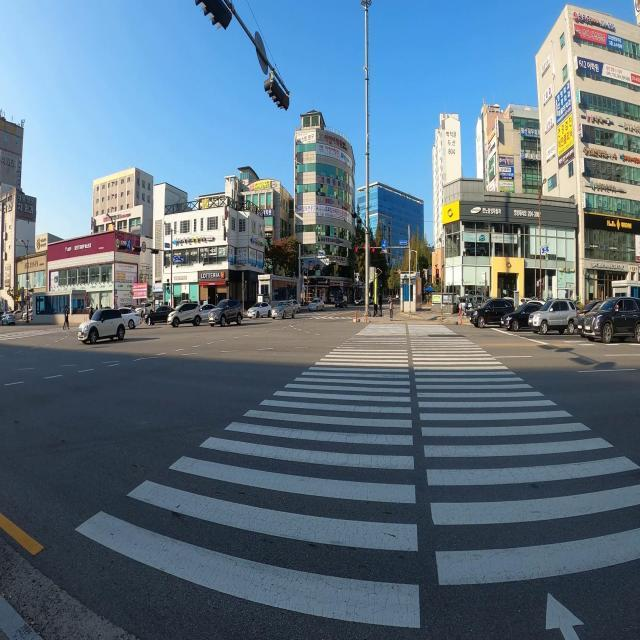crosswalk: (72, 322, 640, 640), (0, 326, 85, 341), (260, 314, 357, 320), (369, 303, 401, 307)
